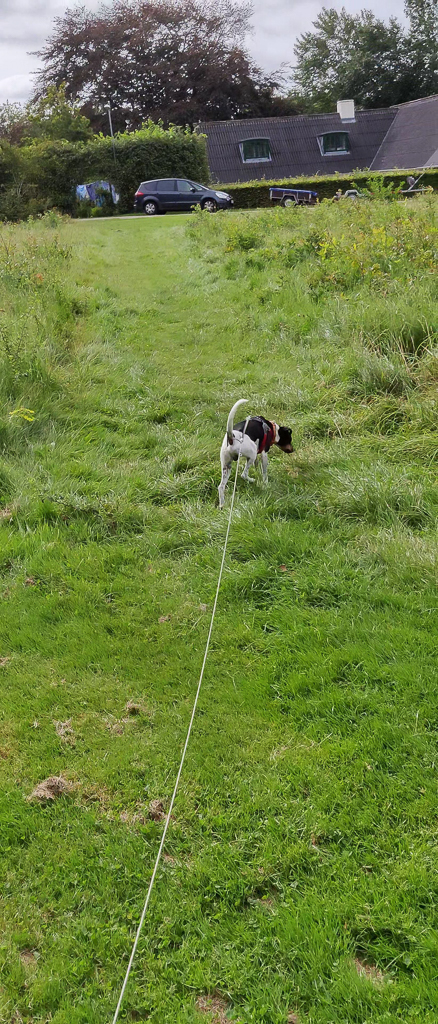Dog: (206, 390, 304, 519)
